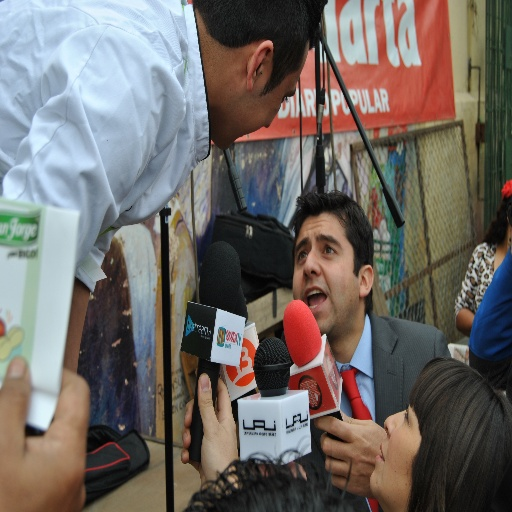hand: (0, 353, 91, 511), (300, 413, 390, 499), (178, 369, 240, 487)
